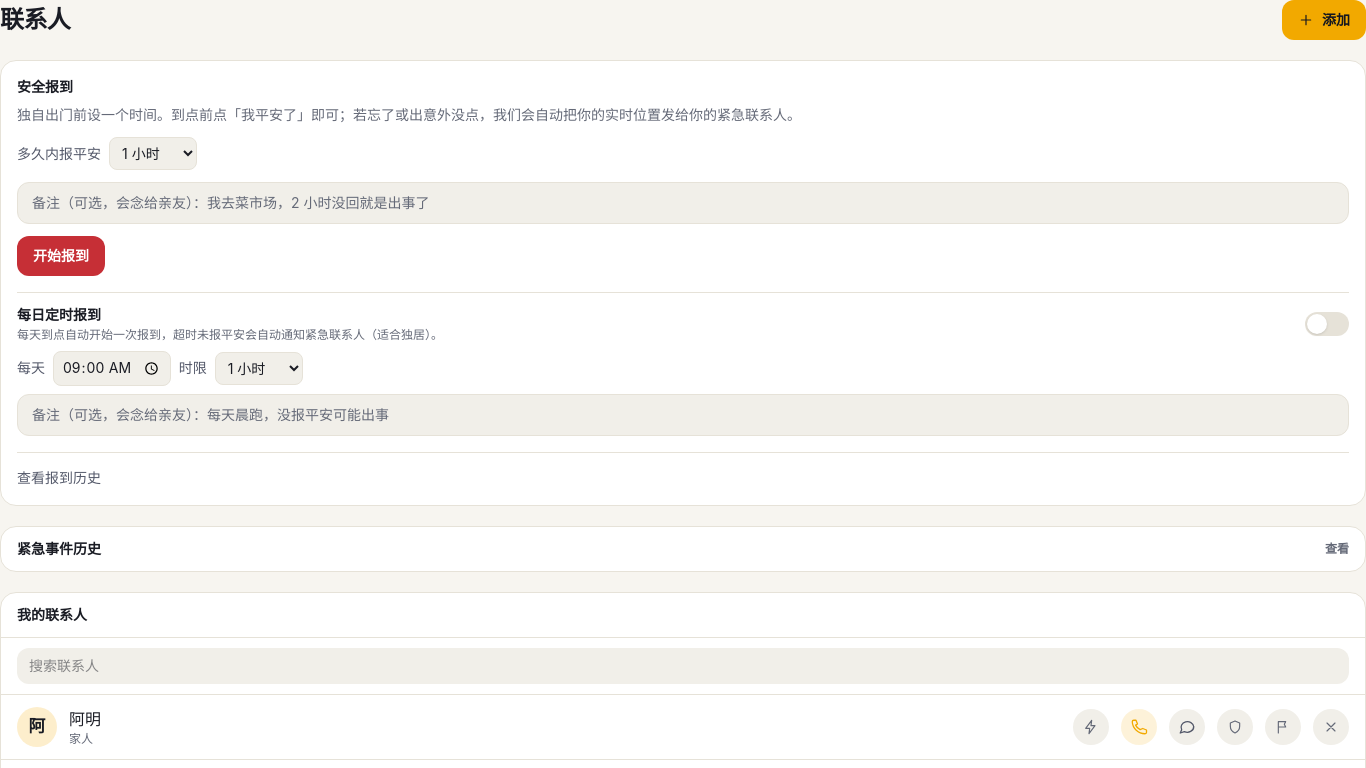
Test: FamilyPage 联系人按名字搜索过滤 › 键入即缩到匹配联系人；清空恢复全部
This screenshot has width=1366, height=768.
expect the text "阿明" is shown: met, box [69,707,101,731]
Type "红" into the search field labelled "搜索联系人".
click(683, 666); type("红")  # box [17,648,1349,684]
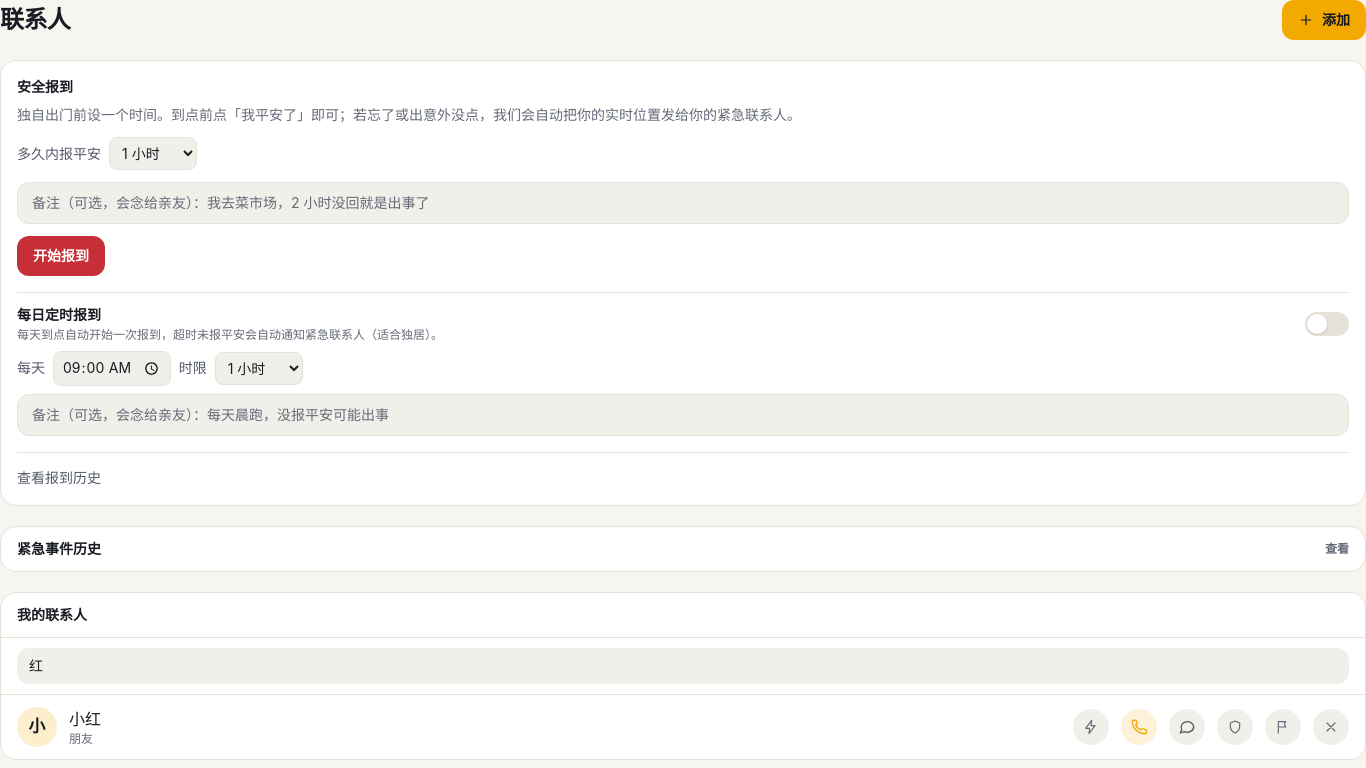
expect the text "小红" is shown: met, box [69,707,101,731]
expect the text "阿明" is gone: met
Clear the search field named "搜索联系人" at (683, 666), box [17,648,1349,684]
(page scrolled)
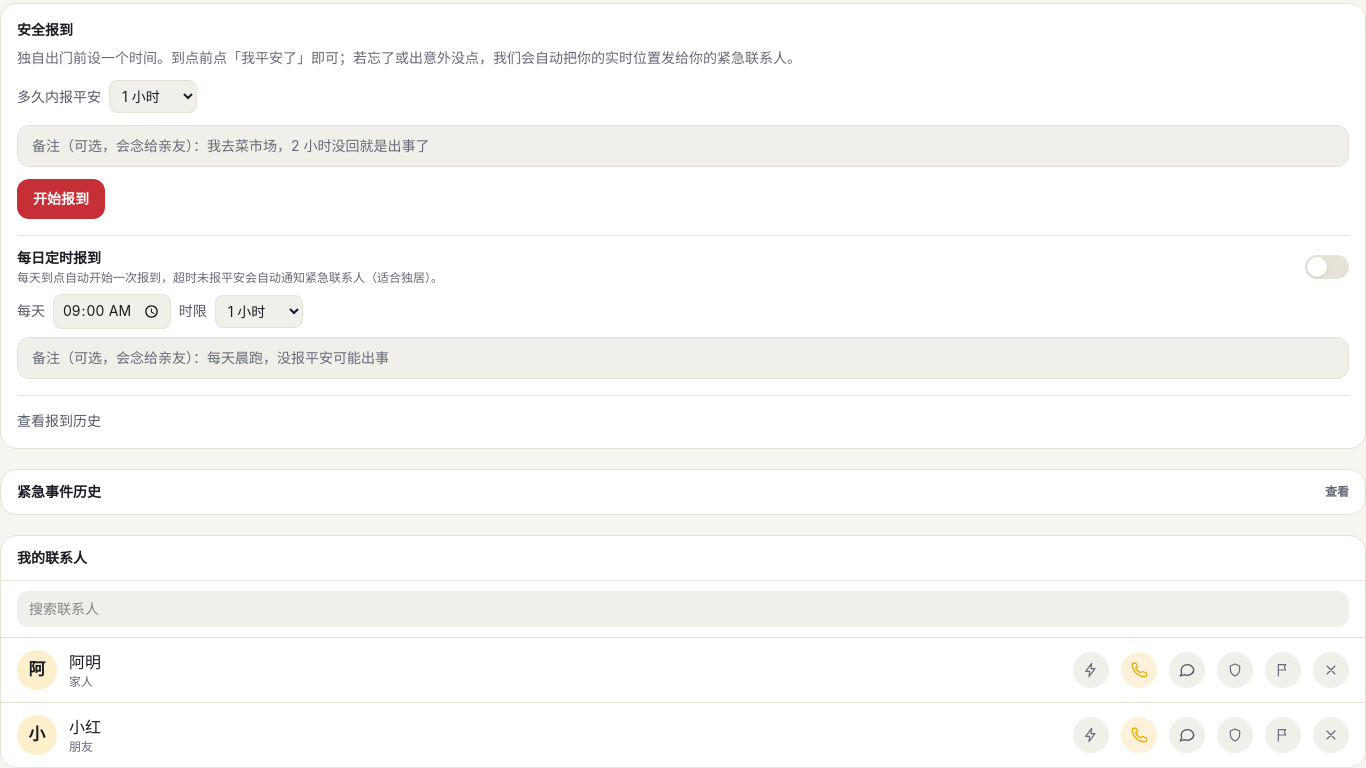
expect the text "小红" is shown: met, box [69,715,101,739]
expect the text "阿明" is shown: met, box [69,650,101,674]
